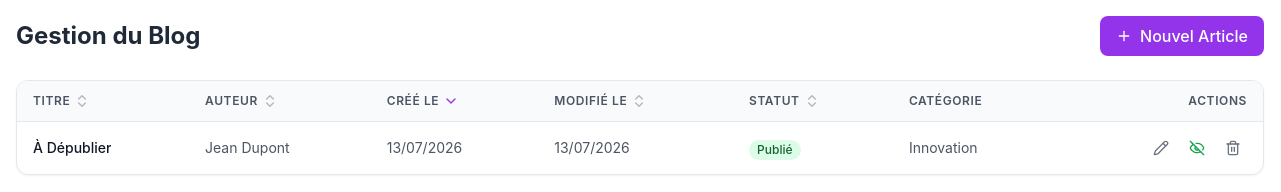
Test: AdminDashboard › Requirement 7.6 — Boutons d'action rapide › dépublie un article publié au clic sur Dépublier
What coordinates should you click on to do the following:
click the button named "dépublier l'article \"à dépublier\""
I would click on:
 (1197, 148)
Its box is [1183,134,1211,162].
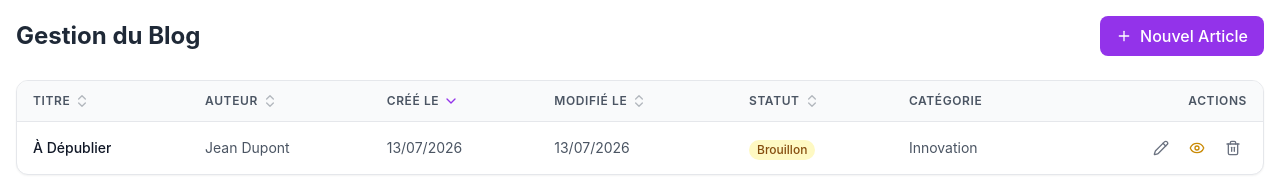
Expected: the text "Brouillon" is shown, [749,140,815,160]
